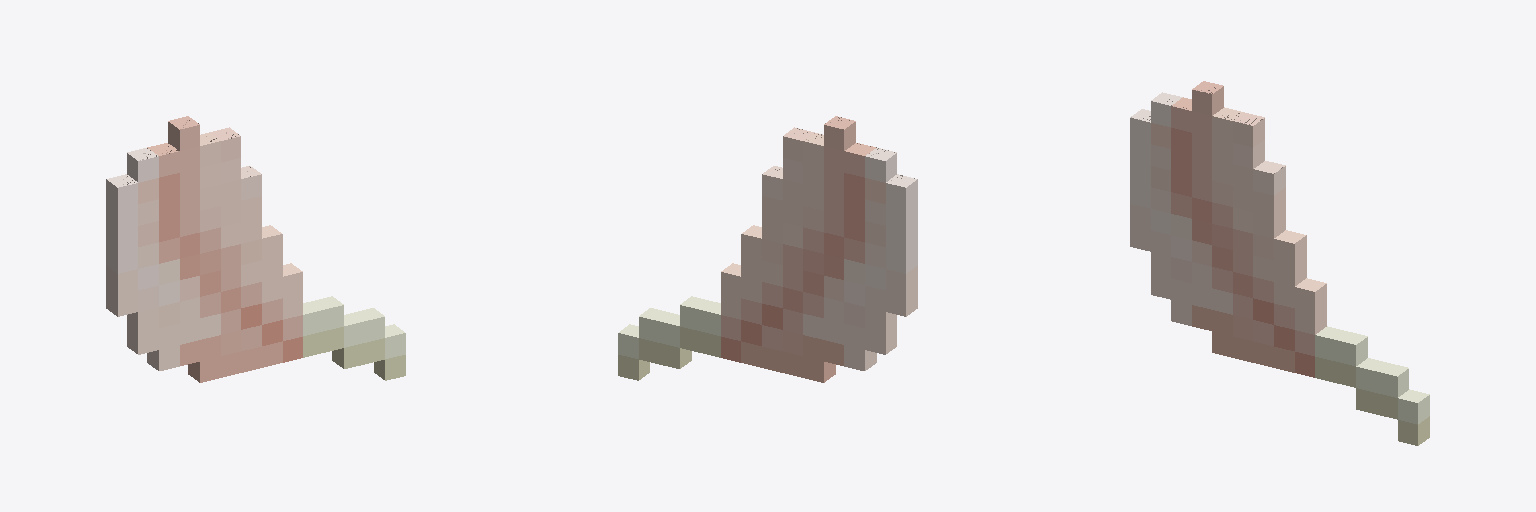
The picture shows the model from 3 angles: view 1: azimuth 30°, elevation 25°; view 2: azimuth 150°, elevation 25°; view 3: azimuth 330°, elevation 25°; orthographic projection.
Bounding box in the file's own units: 0.875 × 0.875 × 0.0625.
1 materials, 1 textured.